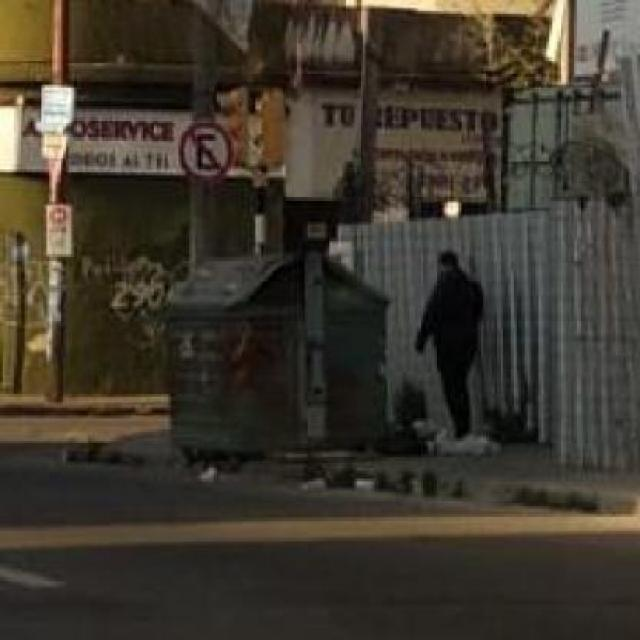garbage: (333, 405, 503, 462), (56, 439, 259, 485)
